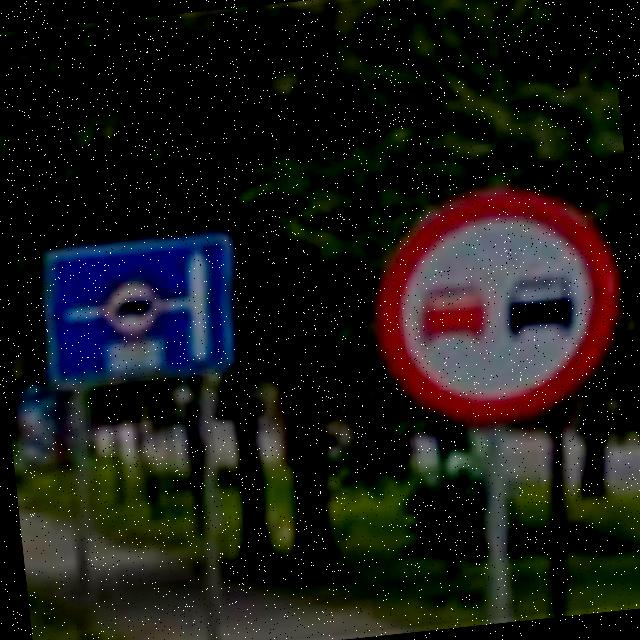Zakaz wyprzedzania: (356, 172, 634, 440)
